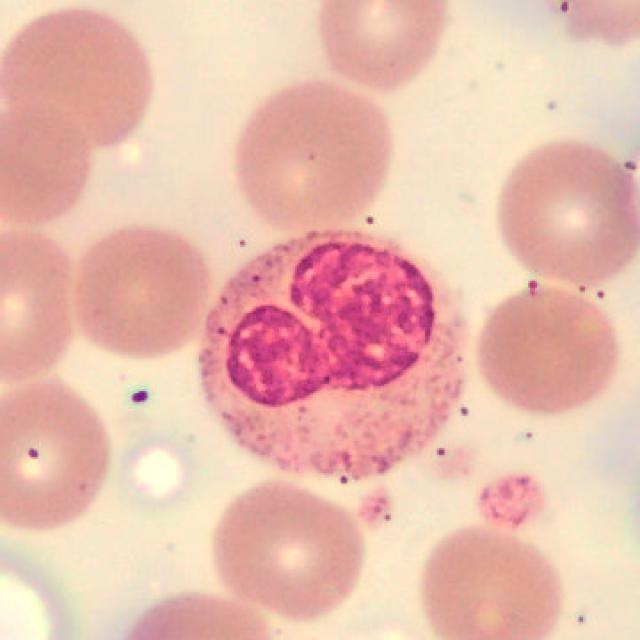Bastonete: (197, 231, 466, 487)
